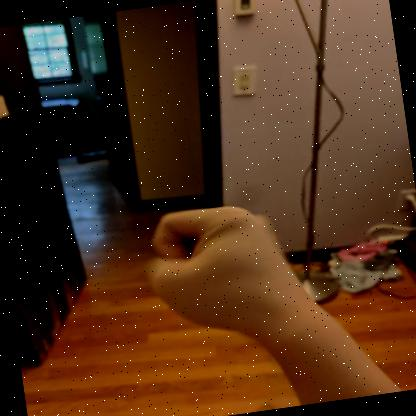J: (144, 205, 317, 336)
